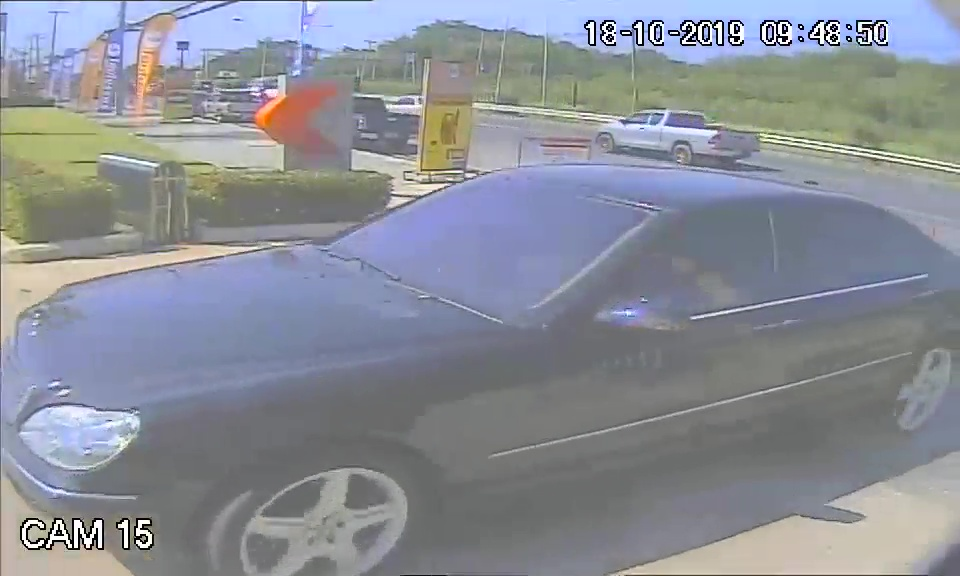sedan: (7, 158, 814, 511)
